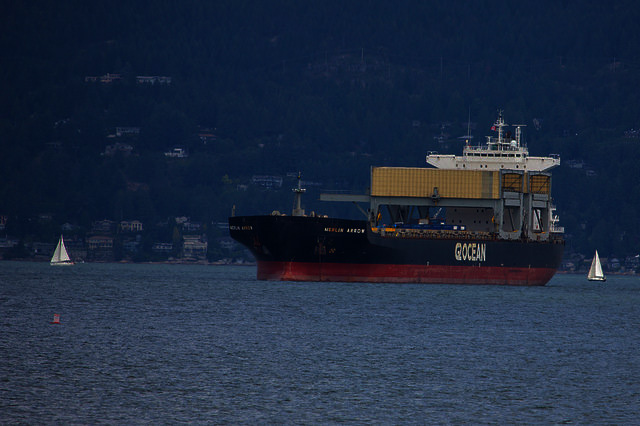boat: (583, 249, 605, 283), (47, 235, 71, 266)
bulk carrier: (225, 112, 566, 287)
